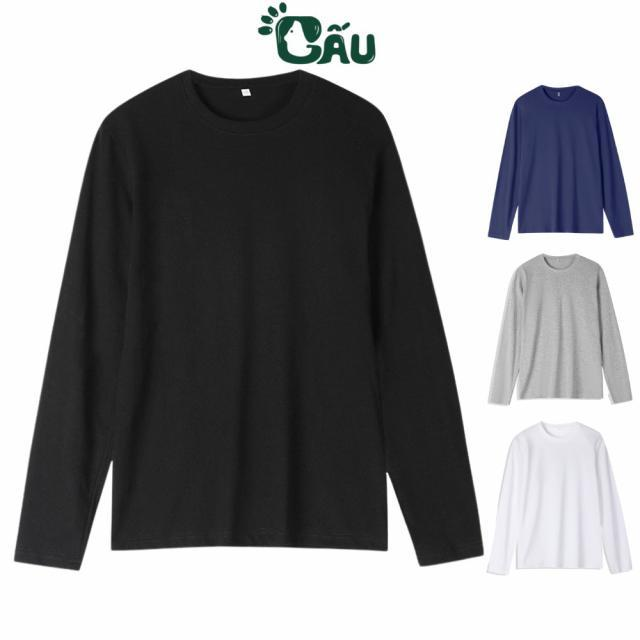Shirt: (20, 71, 484, 570)
